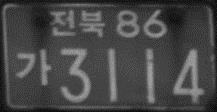1: (103, 46, 121, 103), (141, 46, 158, 104)
3: (59, 47, 92, 104)
4: (171, 47, 205, 104)
6: (142, 9, 167, 39)
8: (115, 8, 140, 38)
가: (16, 48, 52, 87)
전북_O: (47, 9, 105, 37)
